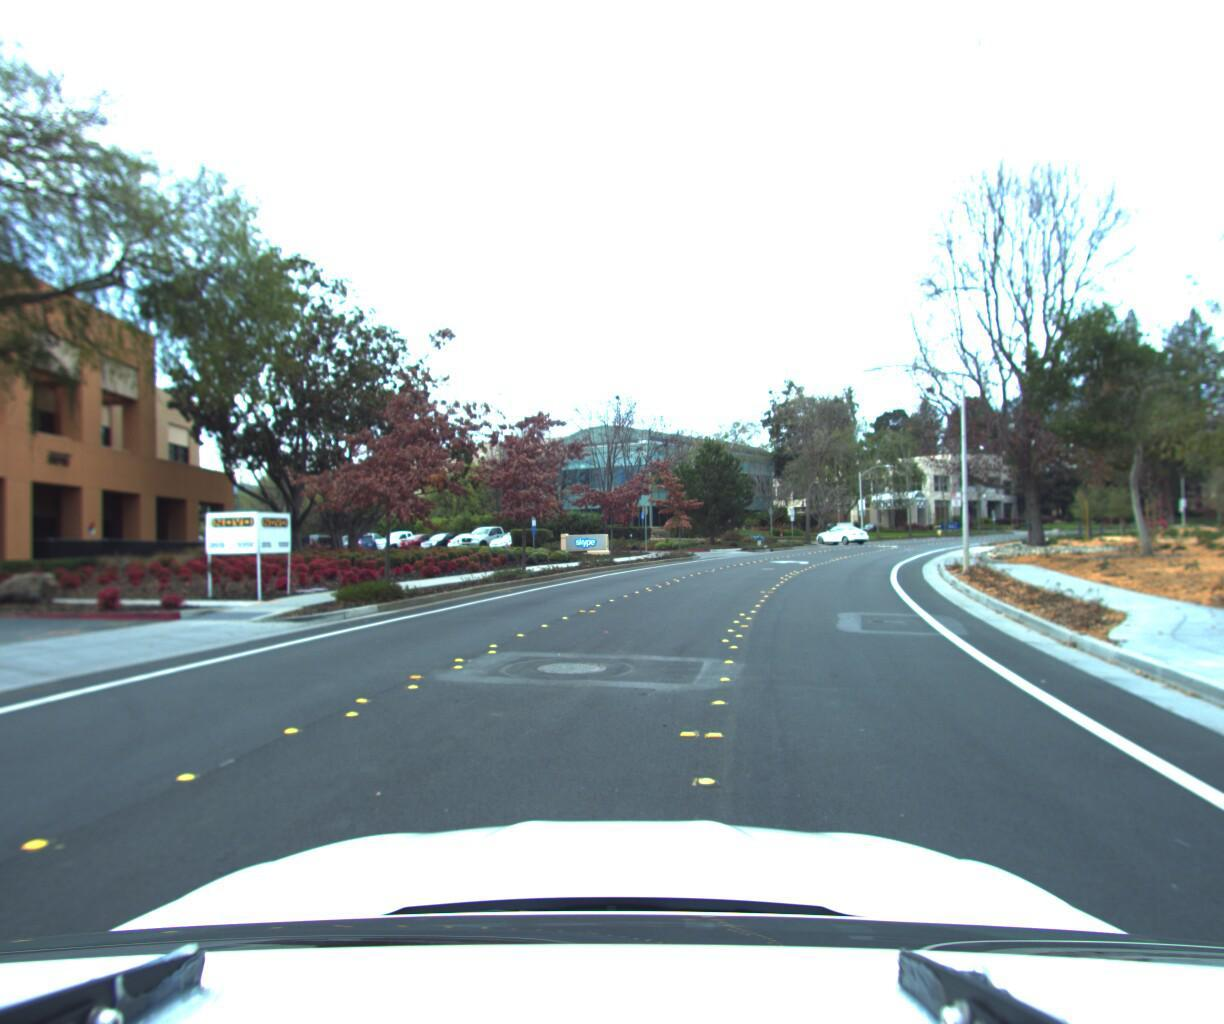car: (815, 519, 873, 542)
